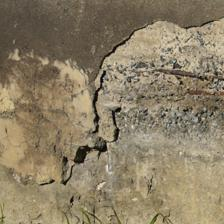Crack: (6, 8, 118, 103), (101, 48, 163, 117), (24, 30, 110, 55)
